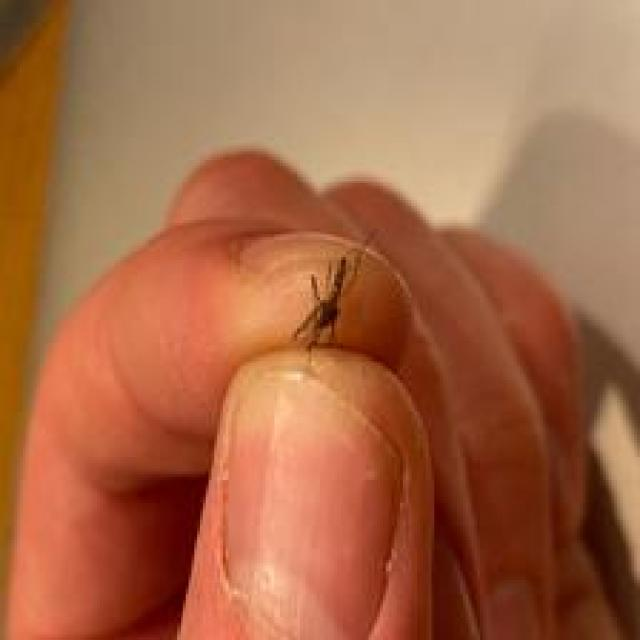Culex: (290, 229, 381, 357)
